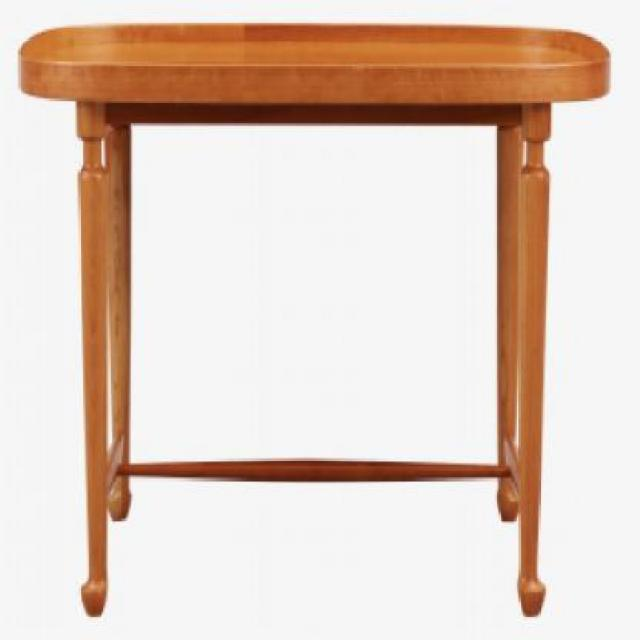table: (14, 20, 609, 620)
